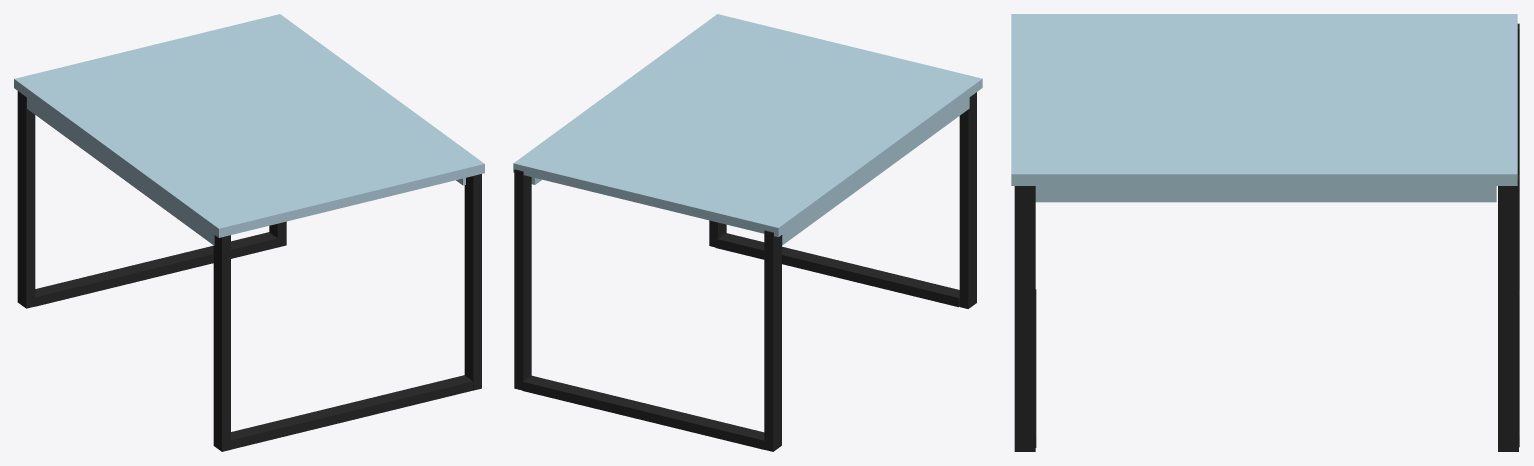
The model's file is mesa1_game.glb.
3 views of the same model, side by side, from view 1: azimuth 30°, elevation 25°; view 2: azimuth 150°, elevation 25°; view 3: azimuth 270°, elevation 25° (orthographic). The views are drawn at different scales.
Parts seen in each view (by area): view 1: Cube, Cube.007, Cube.008, Cube.006, Cube.005, Cube.004, Cube.002; view 2: Cube, Cube.008, Cube.007, Cube.006, Cube.003, Cube.005, Cube.002; view 3: Cube, Cube.001, Cube.004, Cube.003, Cube.006.
Boxes of the visible parts, x1=… form: Cube: x1=14, y1=14, x2=484, y2=237; Cube.007: x1=231, y1=375, x2=472, y2=449; Cube.008: x1=35, y1=232, x2=277, y2=306; Cube.006: x1=17, y1=91, x2=35, y2=308; Cube.005: x1=213, y1=235, x2=230, y2=451; Cube.004: x1=464, y1=174, x2=481, y2=390; Cube.002: x1=27, y1=98, x2=214, y2=245; Cube: x1=513, y1=14, x2=982, y2=237; Cube.008: x1=522, y1=375, x2=764, y2=449; Cube.007: x1=715, y1=233, x2=959, y2=307; Cube.006: x1=764, y1=230, x2=781, y2=451; Cube.003: x1=514, y1=169, x2=531, y2=390; Cube.005: x1=959, y1=92, x2=976, y2=308; Cube.002: x1=782, y1=97, x2=969, y2=245; Cube: x1=1011, y1=14, x2=1517, y2=185; Cube.001: x1=1035, y1=186, x2=1496, y2=202; Cube.004: x1=1014, y1=186, x2=1035, y2=451; Cube.003: x1=1498, y1=175, x2=1518, y2=451; Cube.006: x1=1517, y1=23, x2=1519, y2=289.
Bounding box in the file's own units: 0.9 × 0.7287 × 1.2.
